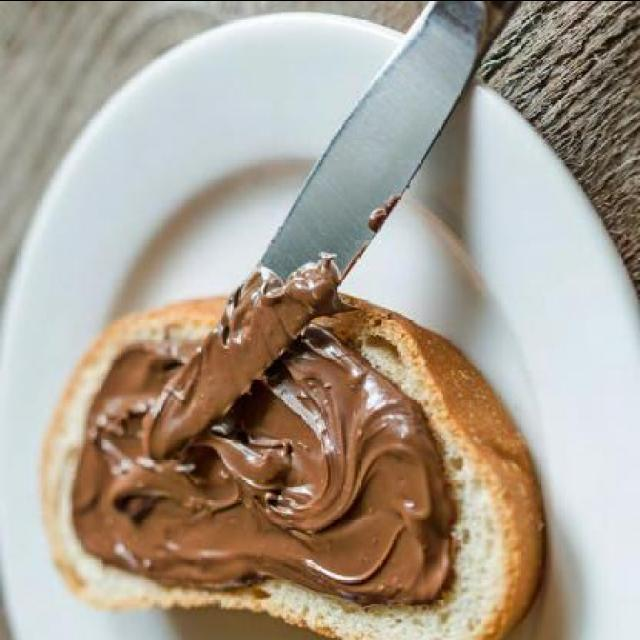Spread: (68, 323, 464, 608)
